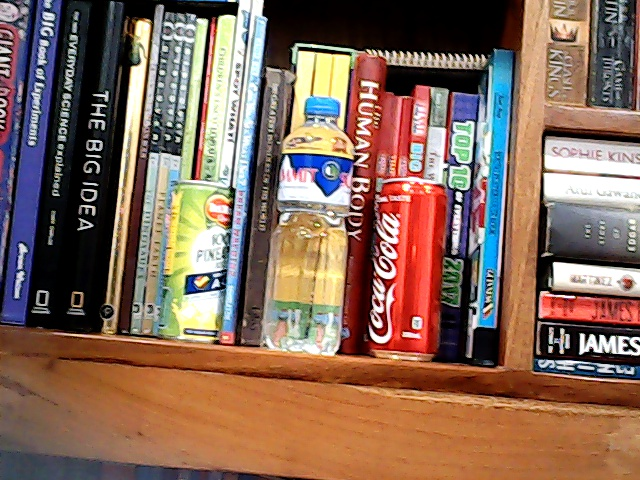Cola: (361, 169, 450, 372)
Pine Juice: (155, 169, 240, 322)
Summit Water: (262, 99, 357, 352)
